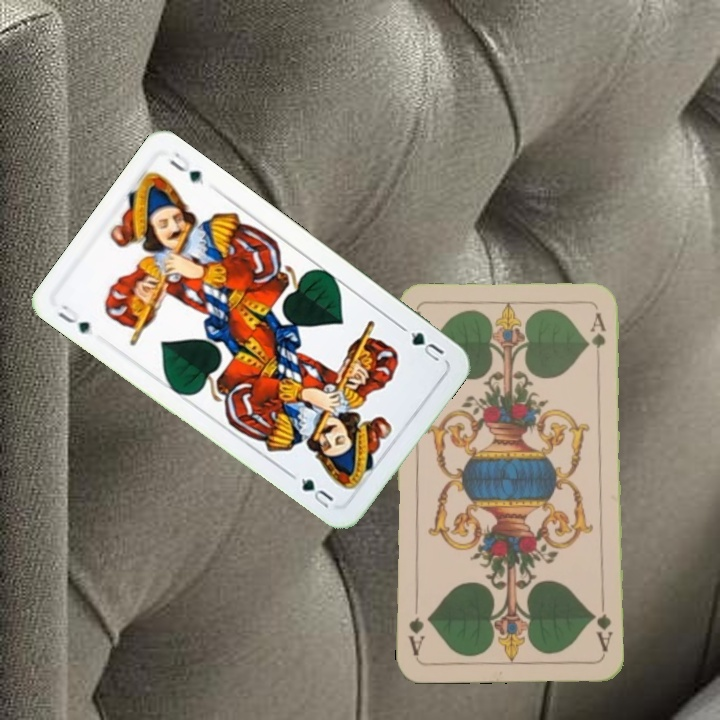GA: (588, 597, 615, 654)
GU: (397, 322, 447, 365), (54, 300, 93, 336)
